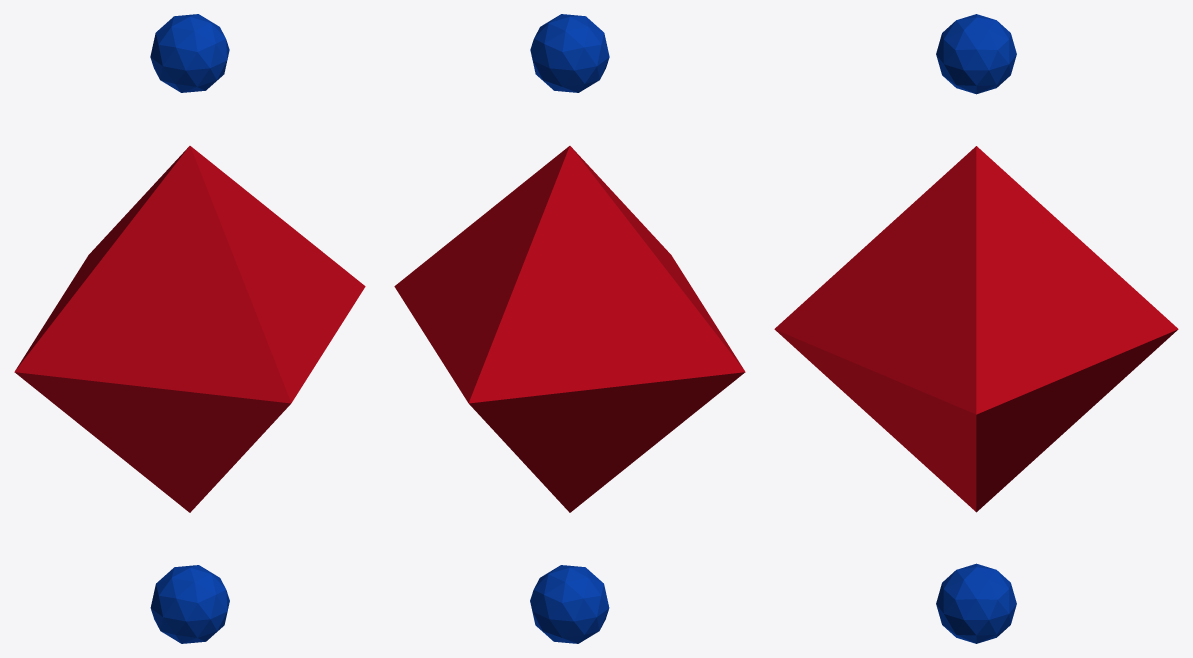
Rendered from crystal2.obj.
The picture shows the model from 3 angles, left to right: view 1: azimuth 30°, elevation 25°; view 2: azimuth 150°, elevation 25°; view 3: azimuth 270°, elevation 25°; orthographic projection.
Parts seen in each view (by area): view 1: 立方体; view 2: 立方体; view 3: 立方体.
Boxes of the visible parts, <box> form: 立方体: <box>14,14,365,643</box>; 立方体: <box>394,14,745,643</box>; 立方体: <box>774,14,1178,643</box>.
Size of the model in its own units: 2 by 3.4 by 2.
1 material, 1 textured.
